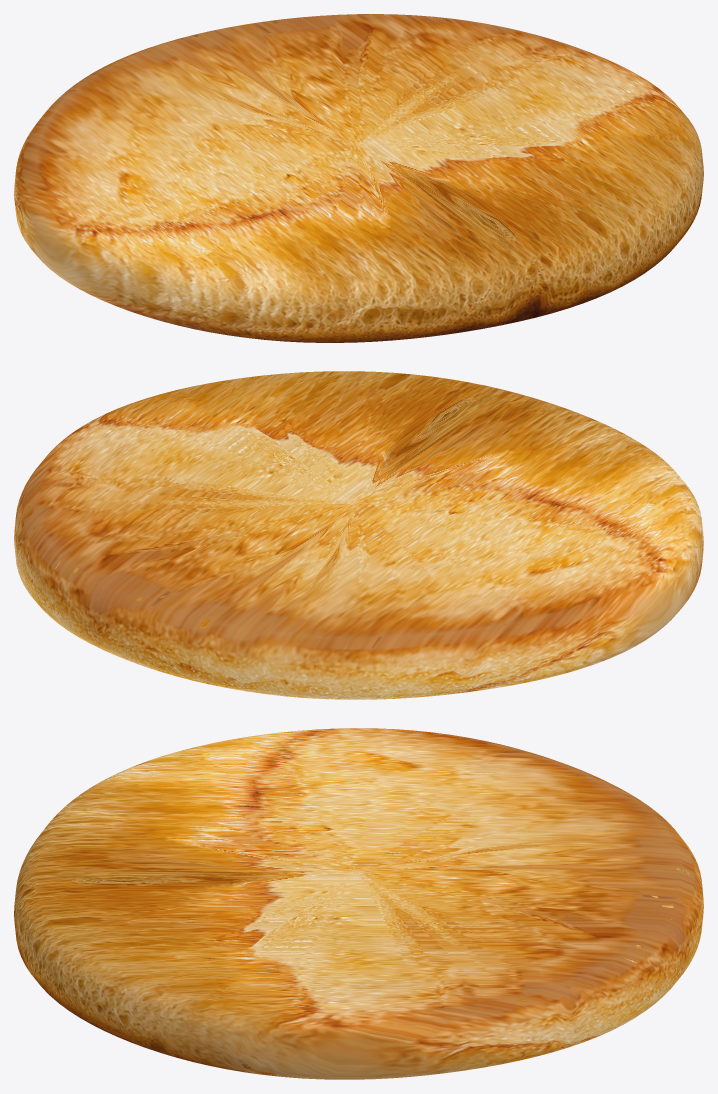
File: bun-bottom.glb
3 views of the same model, one above another, from view 1: azimuth 30°, elevation 25°; view 2: azimuth 150°, elevation 25°; view 3: azimuth 270°, elevation 25° (orthographic). The views are drawn at different scales.
Parts seen in each view (by area): view 1: bun-bottom; view 2: bun-bottom; view 3: bun-bottom.
Boxes of the visible parts, bbox=[...] form: bun-bottom: bbox=[14, 14, 703, 342]; bun-bottom: bbox=[14, 371, 703, 699]; bun-bottom: bbox=[14, 728, 703, 1079].
Bounding box in the file's own units: 0.98 × 0.105 × 0.93.
1 material, 1 textured.
